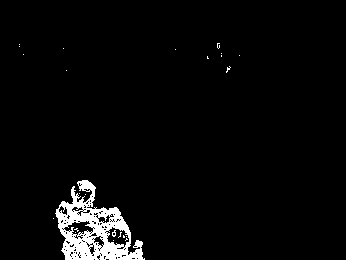person: (56, 179, 107, 260)
